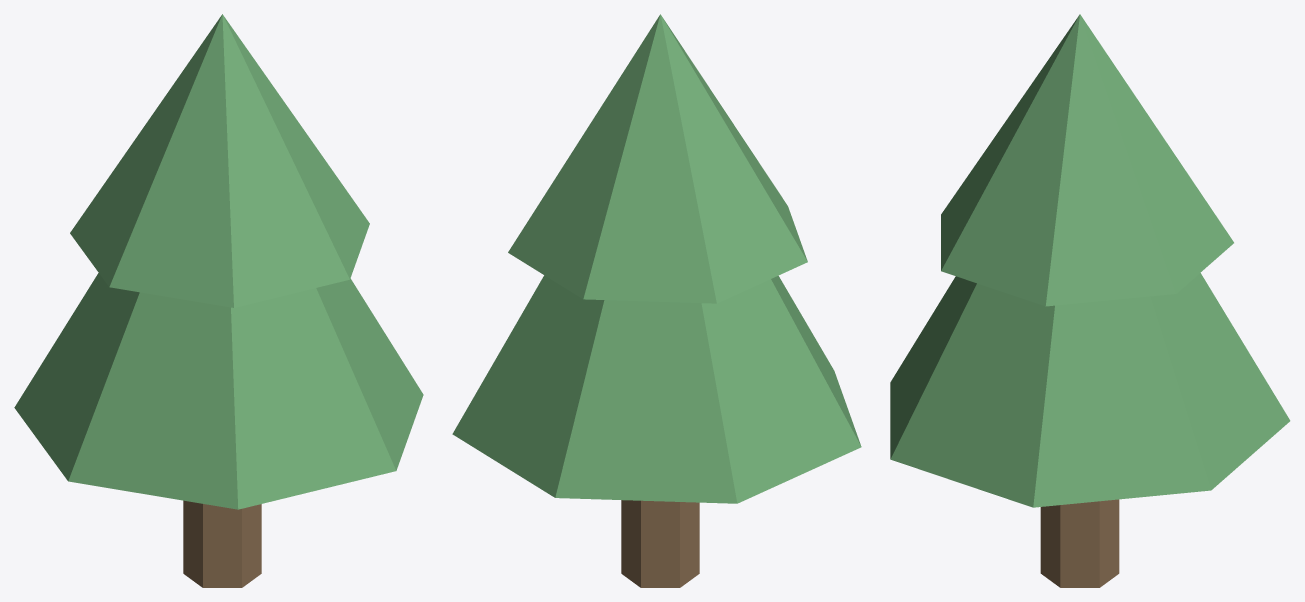
The model's file is Tree.fbx.
3 renders of one model, left to right at view 1: azimuth 30°, elevation 25°; view 2: azimuth 150°, elevation 25°; view 3: azimuth 270°, elevation 25°, orthographic.
Parts seen in each view (by area): view 1: Tree; view 2: Tree; view 3: Tree.
Boxes of the visible parts, x1,y1,x2,y2 form: Tree: (14,14,423,587); Tree: (452,14,861,587); Tree: (890,14,1290,587).
Bounding box in the file's own units: 1.46 × 2.2 × 1.43.
